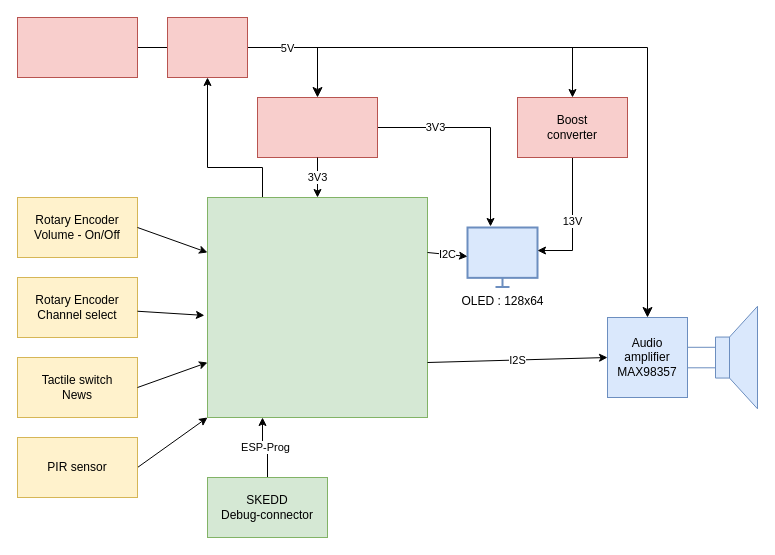
The diagram is 775 pixels wide and 555 high, and some of its shapes have lost their labels. The shapes that lost their labels are listed below. From the top down, each one's box as (x1, y1, x2, y2) in pixels, then its label:
(16, 16, 138, 78): USB-C Connector
(166, 16, 248, 78): Soft power latch
(256, 96, 378, 158): LDO
(206, 196, 428, 418): ESP32-WROVER
